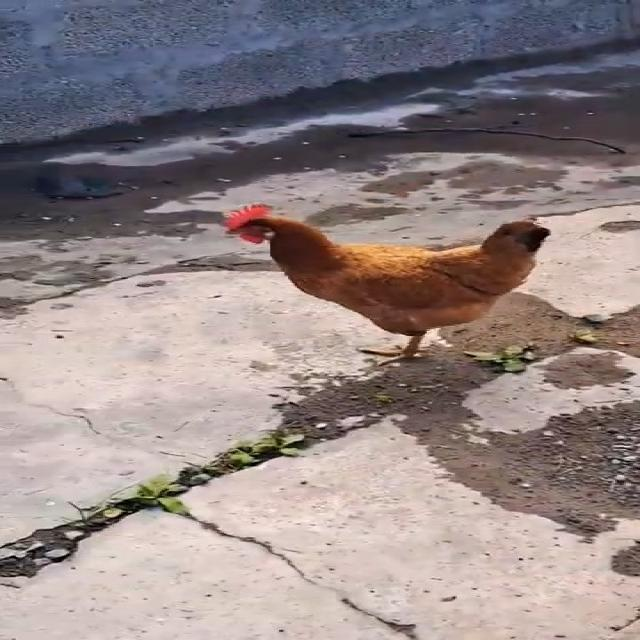walking: (203, 188, 558, 384)
